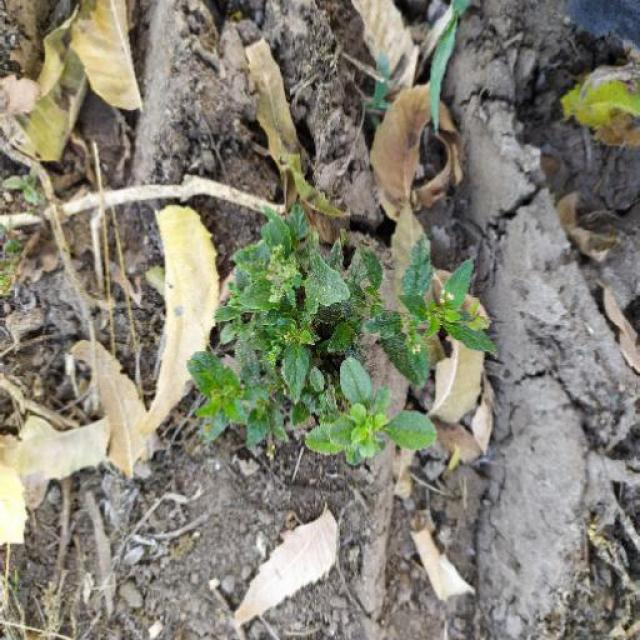weed: (175, 211, 506, 494)
